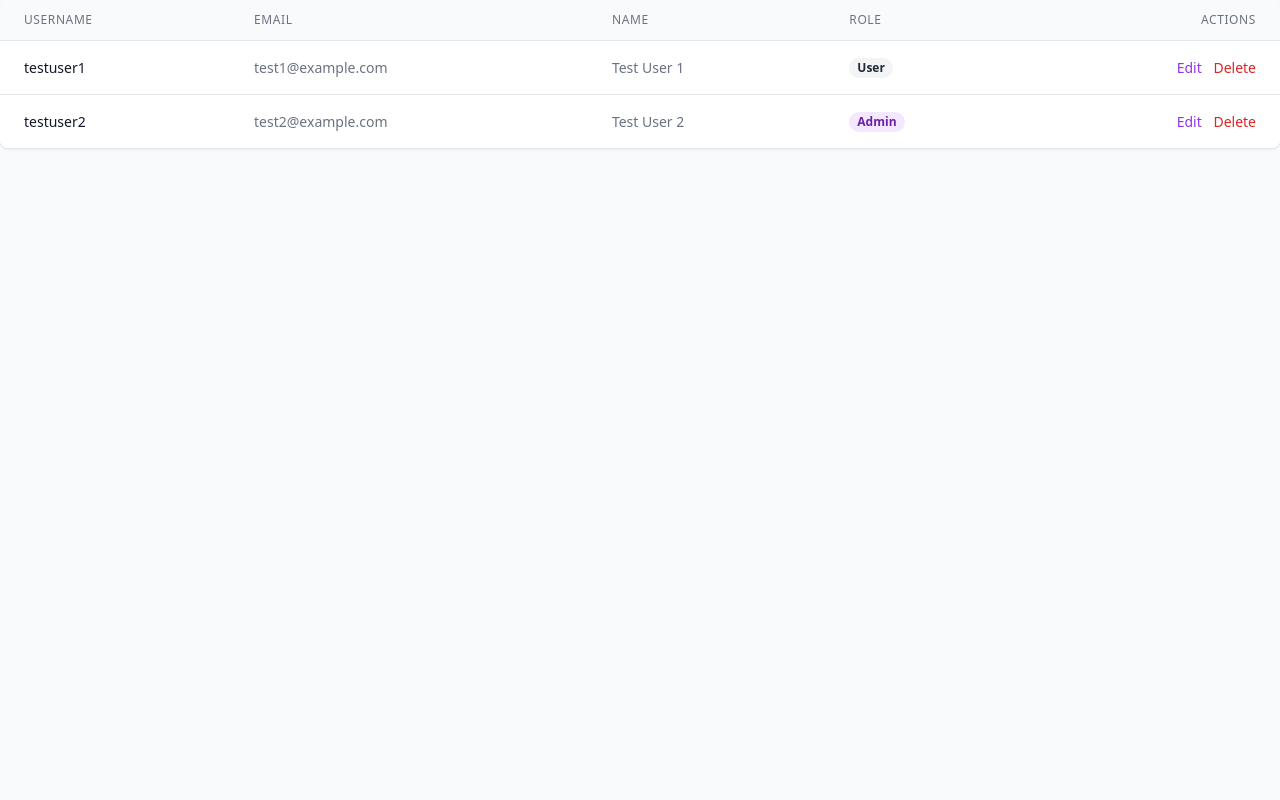
Test: UserList Component › User Actions › should open edit modal when edit button is clicked
# Find and click edit button for first user
Click the button "Edit" in the row of "testuser1".
click(1189, 68)  # box [1177,58,1202,78]
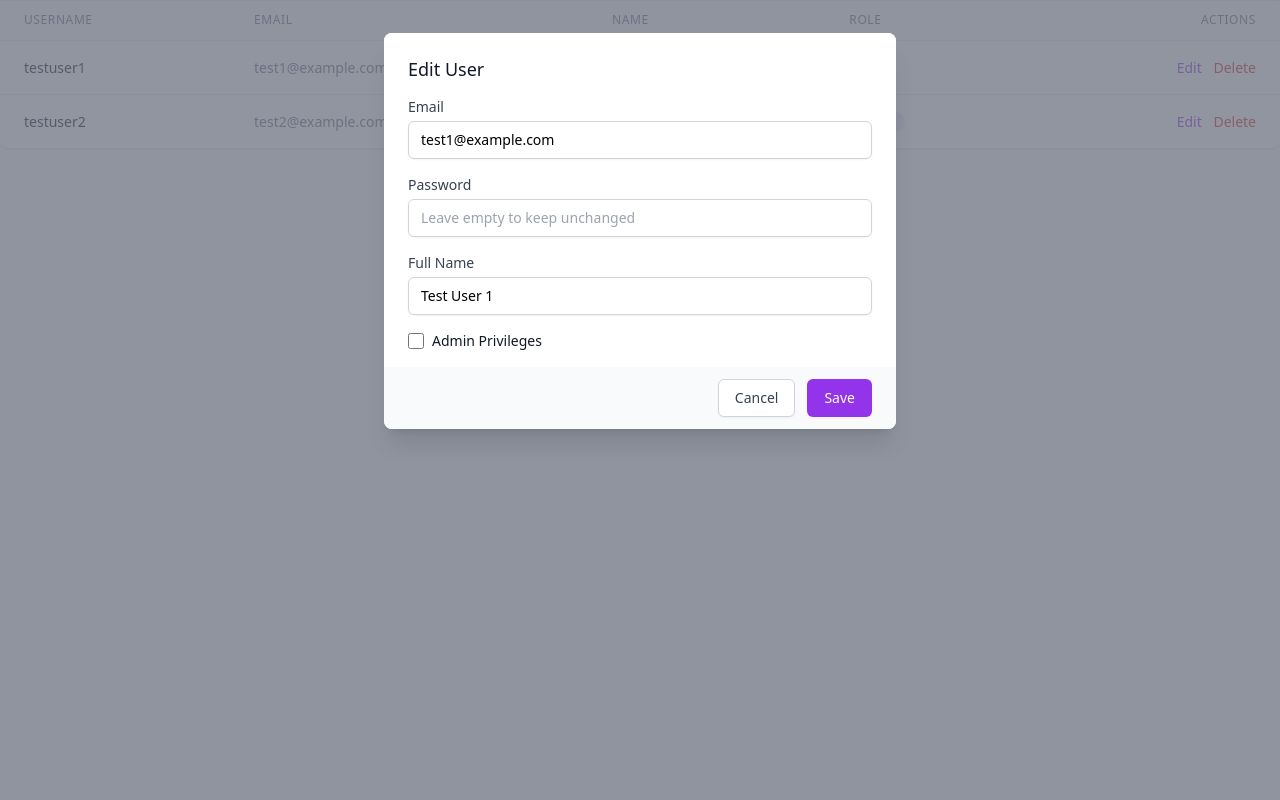
Result: the heading "Edit User" is shown at [408,57,484,81]
